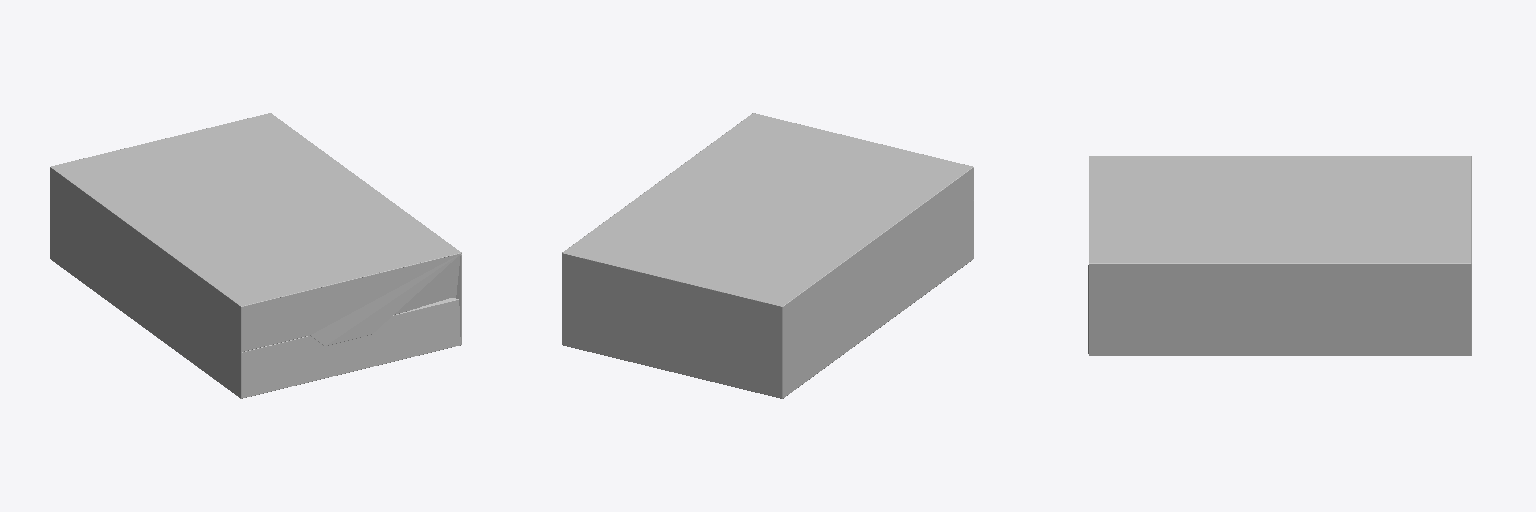
File: link_cereal_box.obj
The picture shows the model from 3 angles: view 1: azimuth 30°, elevation 25°; view 2: azimuth 150°, elevation 25°; view 3: azimuth 270°, elevation 25°; orthographic projection.
Parts seen in each view (by area): view 1: link_cereal_box_Cube.003; view 2: link_cereal_box_Cube.003; view 3: link_cereal_box_Cube.003.
Part boxes in pixels (left/top/right/bottom): link_cereal_box_Cube.003: left=50, top=113, right=461, bottom=398; link_cereal_box_Cube.003: left=562, top=113, right=973, bottom=398; link_cereal_box_Cube.003: left=1088, top=156, right=1471, bottom=355.
Bounding box in the file's own units: 0.2 × 0.0801 × 0.3002.